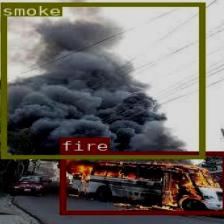fire: (59, 150, 224, 214)
smoke: (0, 2, 204, 158)
